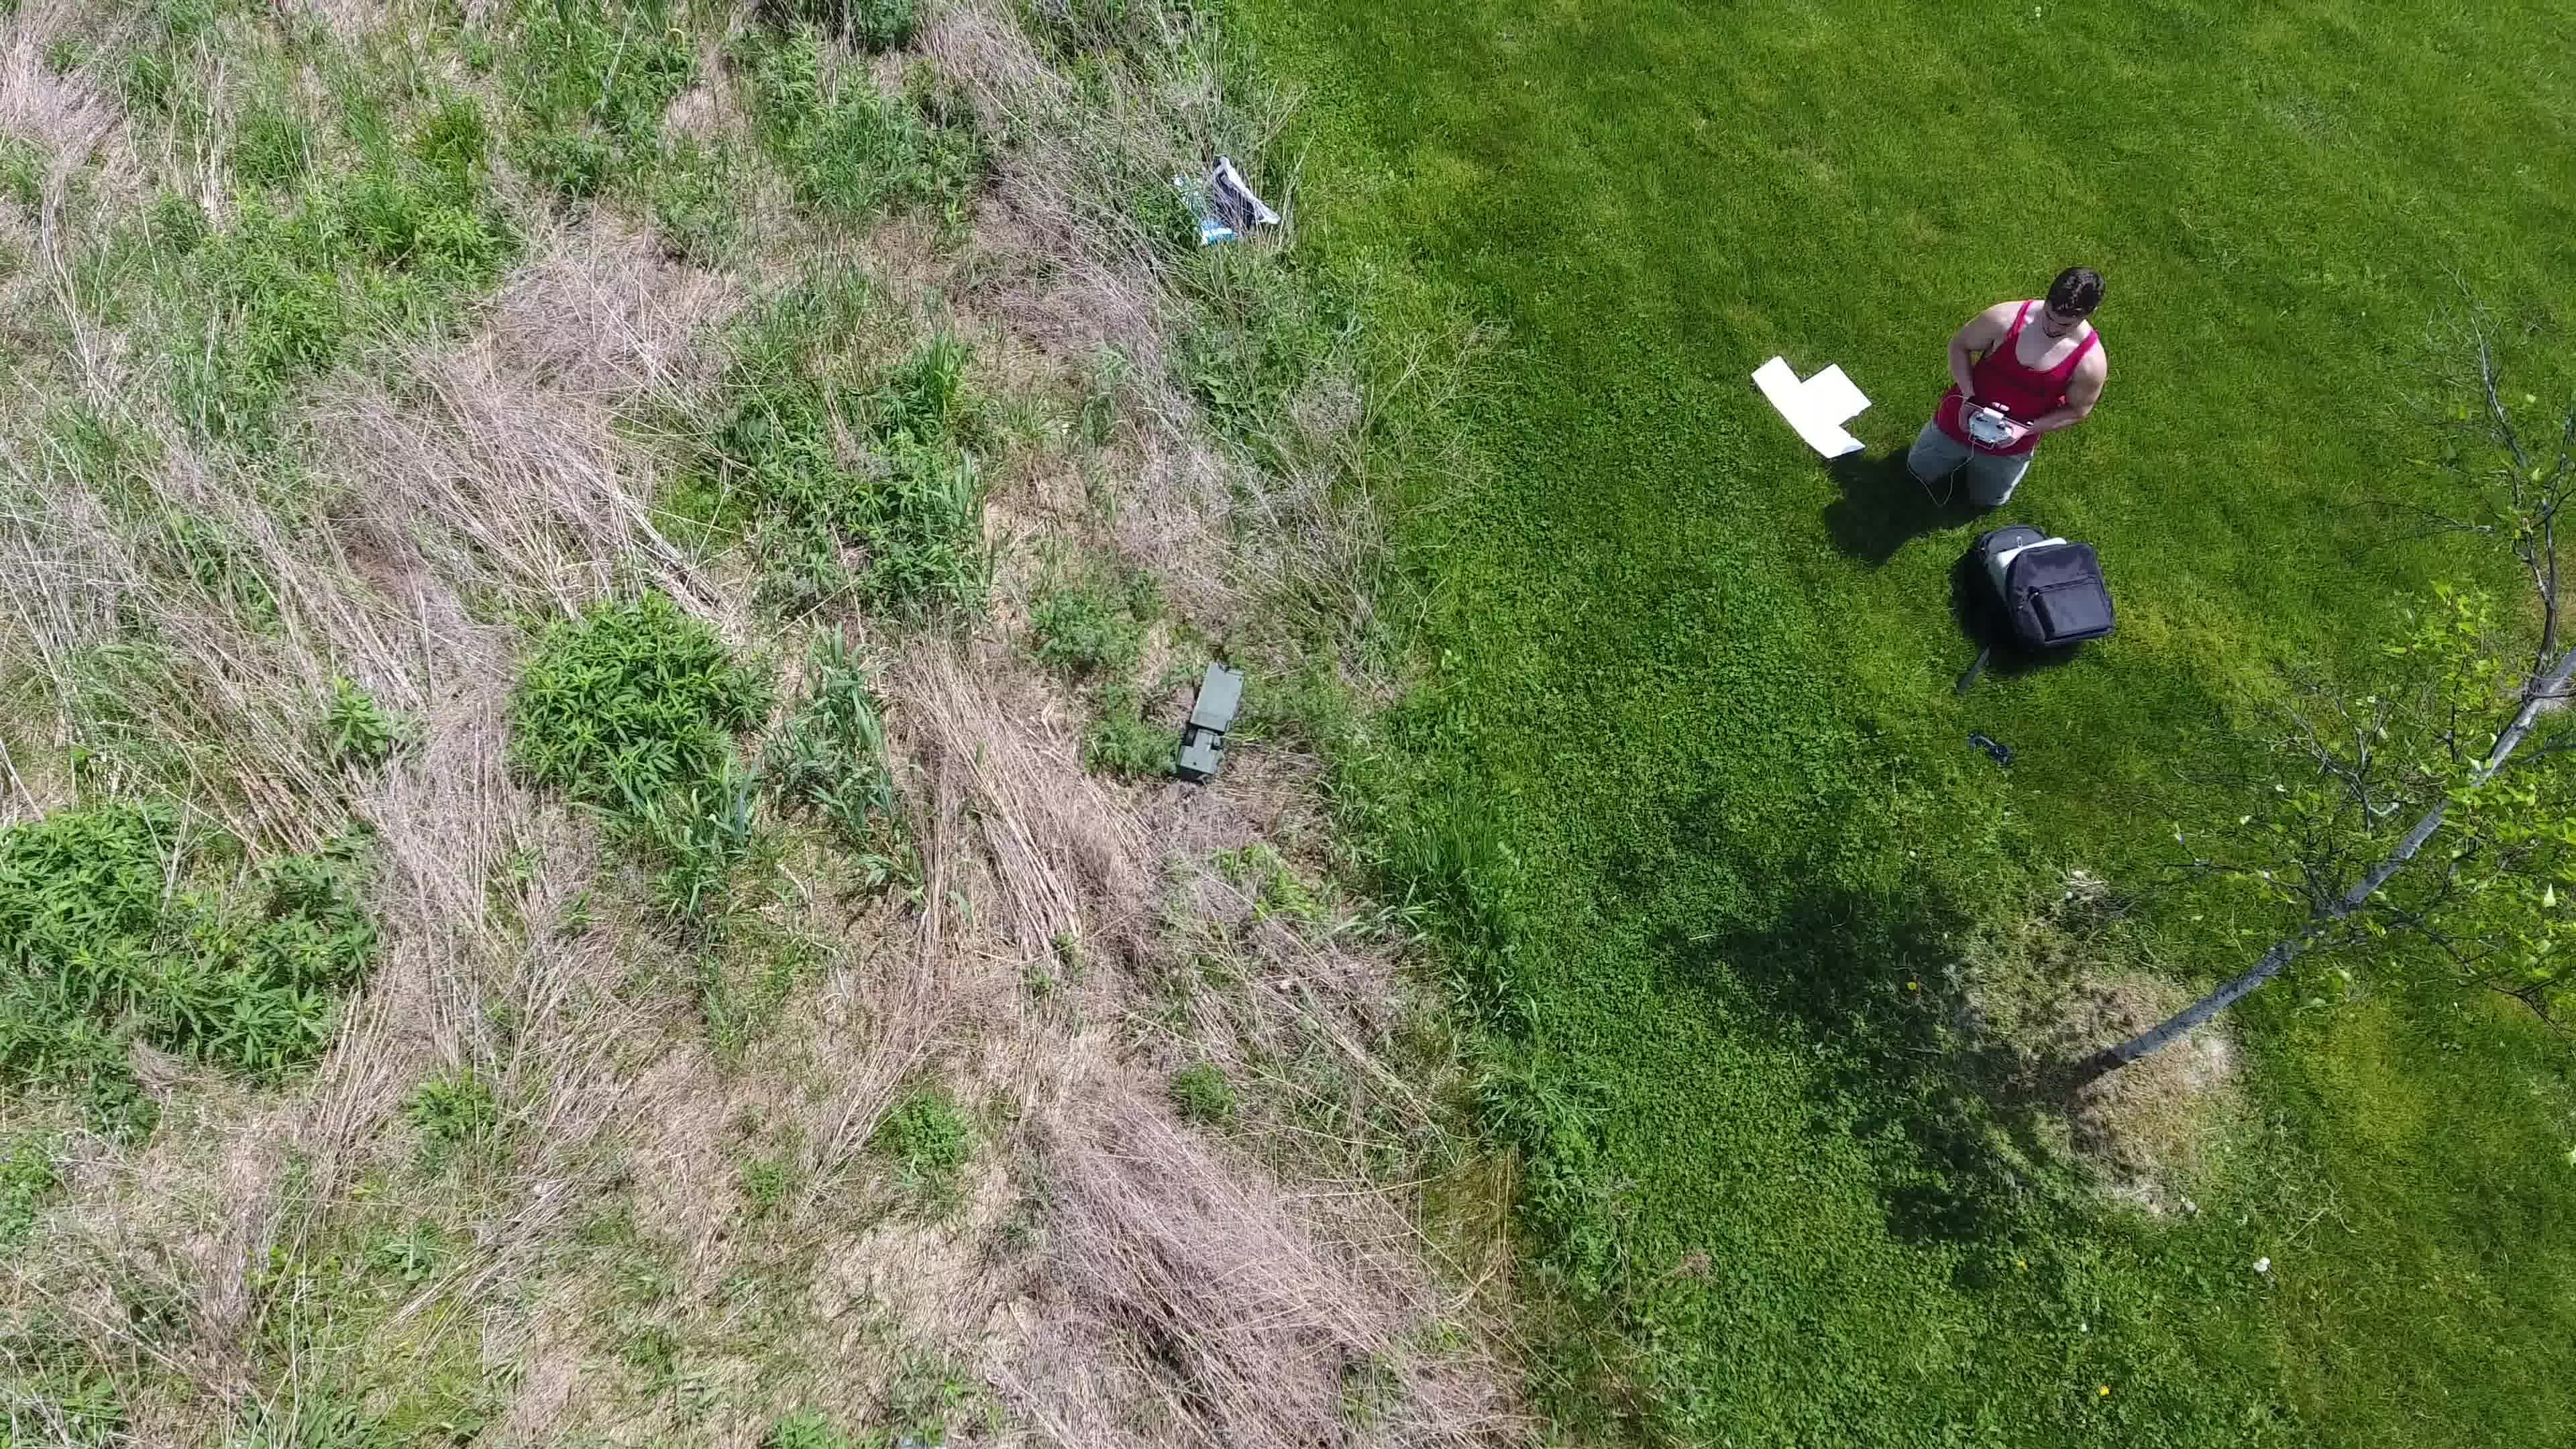transporter9: (1169, 658, 1249, 780)
